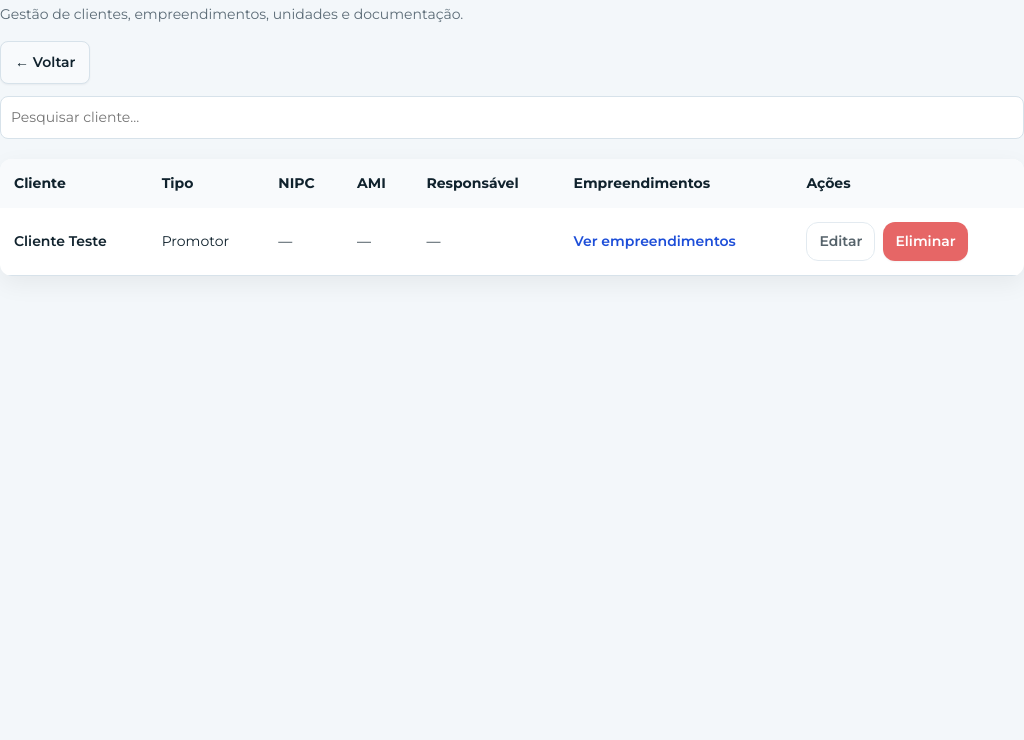
EstoqueNaoPublicitado - condições herdadas por unidade › apresenta indicação visual de condição inválida combinada com preço zero
Click the text "Cliente Teste" at [74, 242], box [0,208,148,276]
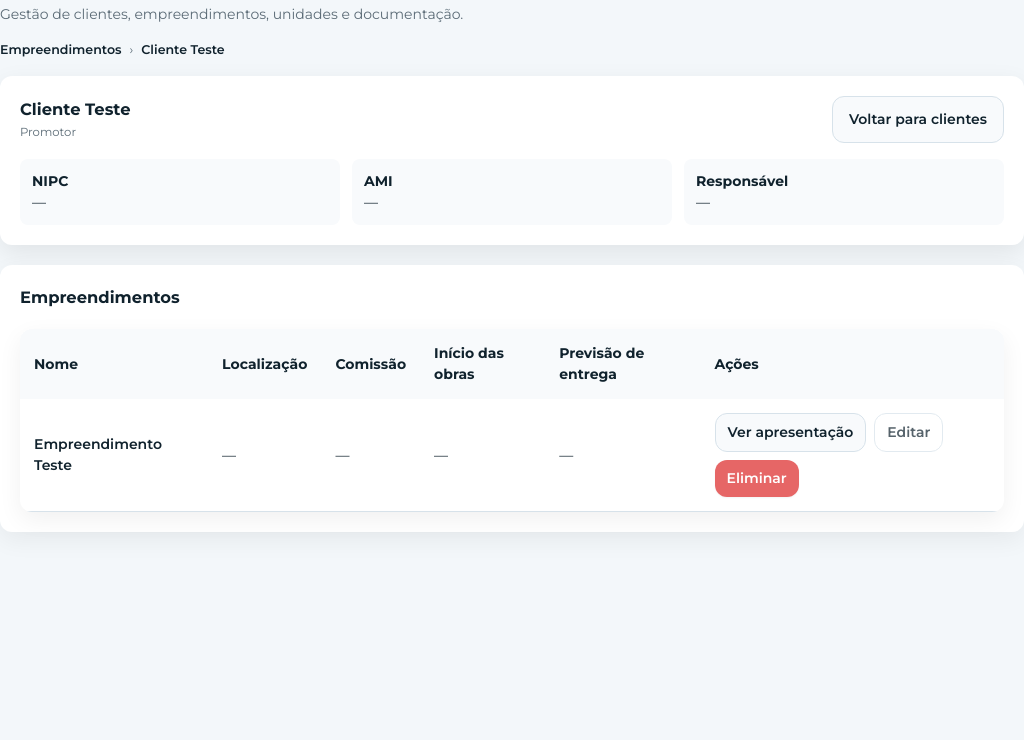
Click the text "Empreendimento Teste" at [114, 456], box [20,400,208,512]
(page scrolled)
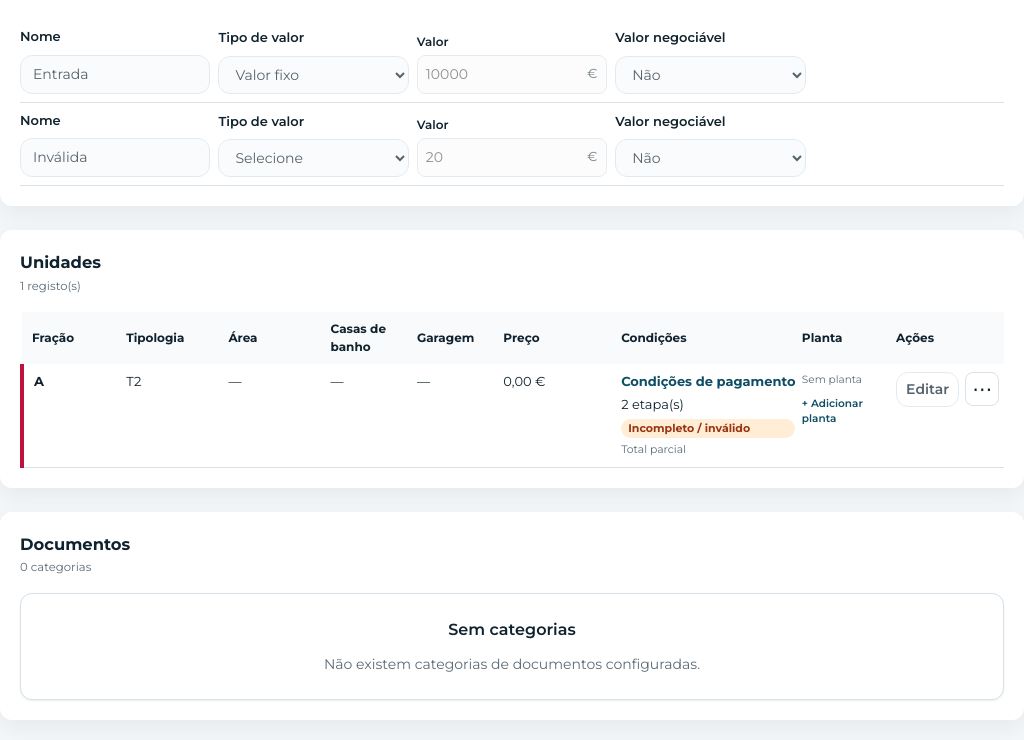
Click the heading named "Mais ações" at [982, 389], box [965,372,999,406]
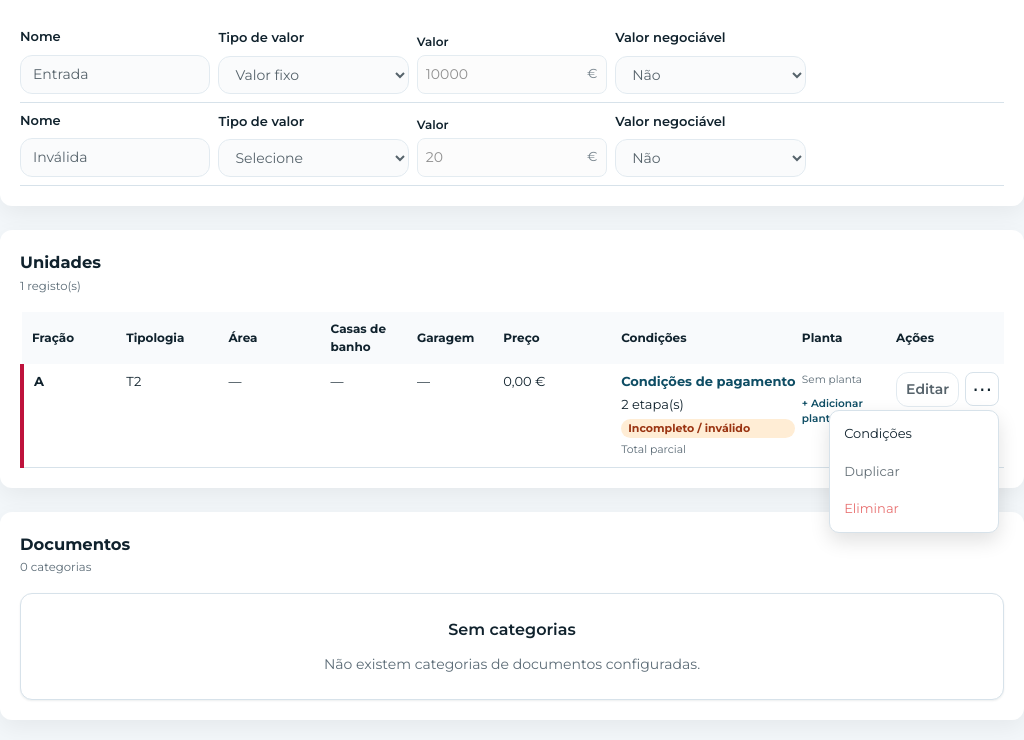
Click the menu item "Condições" at [914, 434], box [836,417,992,451]
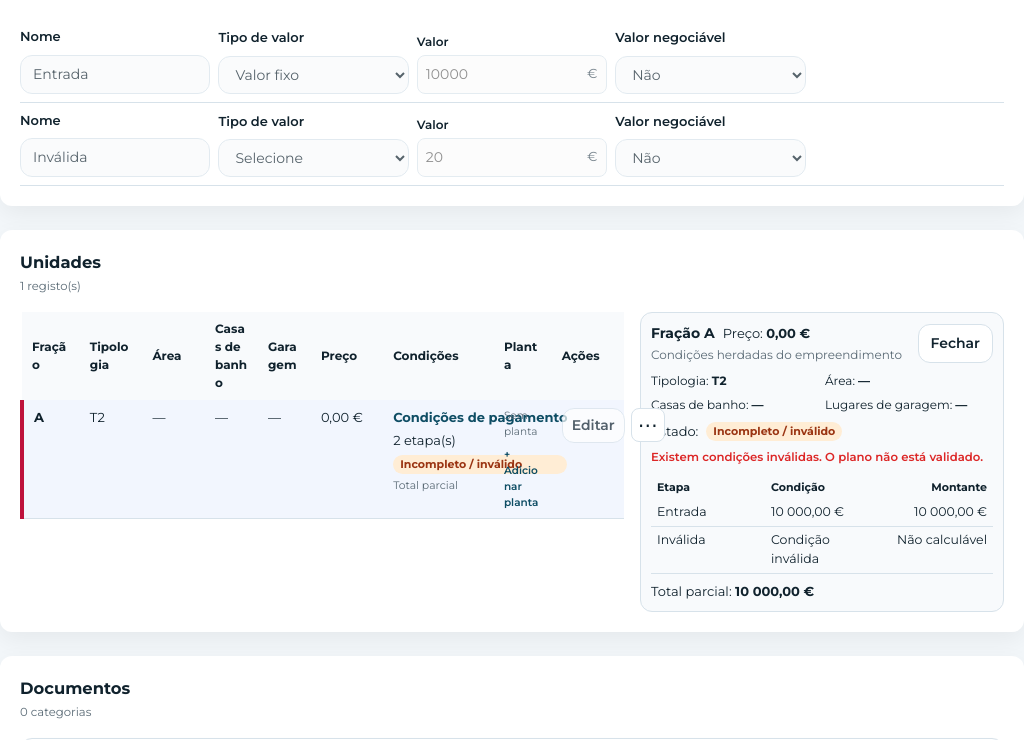
Result: the text "Existem condições inválidas. O plano não está validado." is shown at [651,449,993,467]
Result: the text "Incompleto / inválido" is shown 2 times at [393,455,567,474]; [706,422,842,441]
